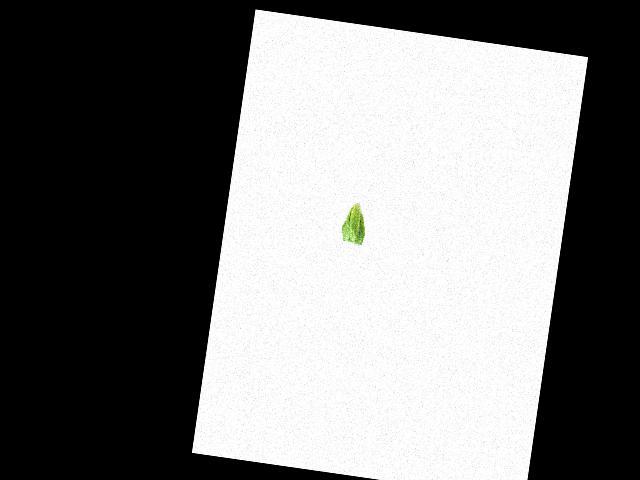lettuce: (336, 199, 372, 248)
